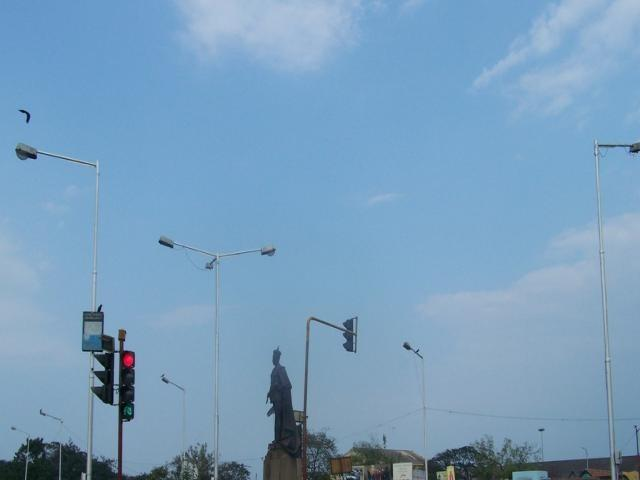red_light: (120, 350, 136, 405)
